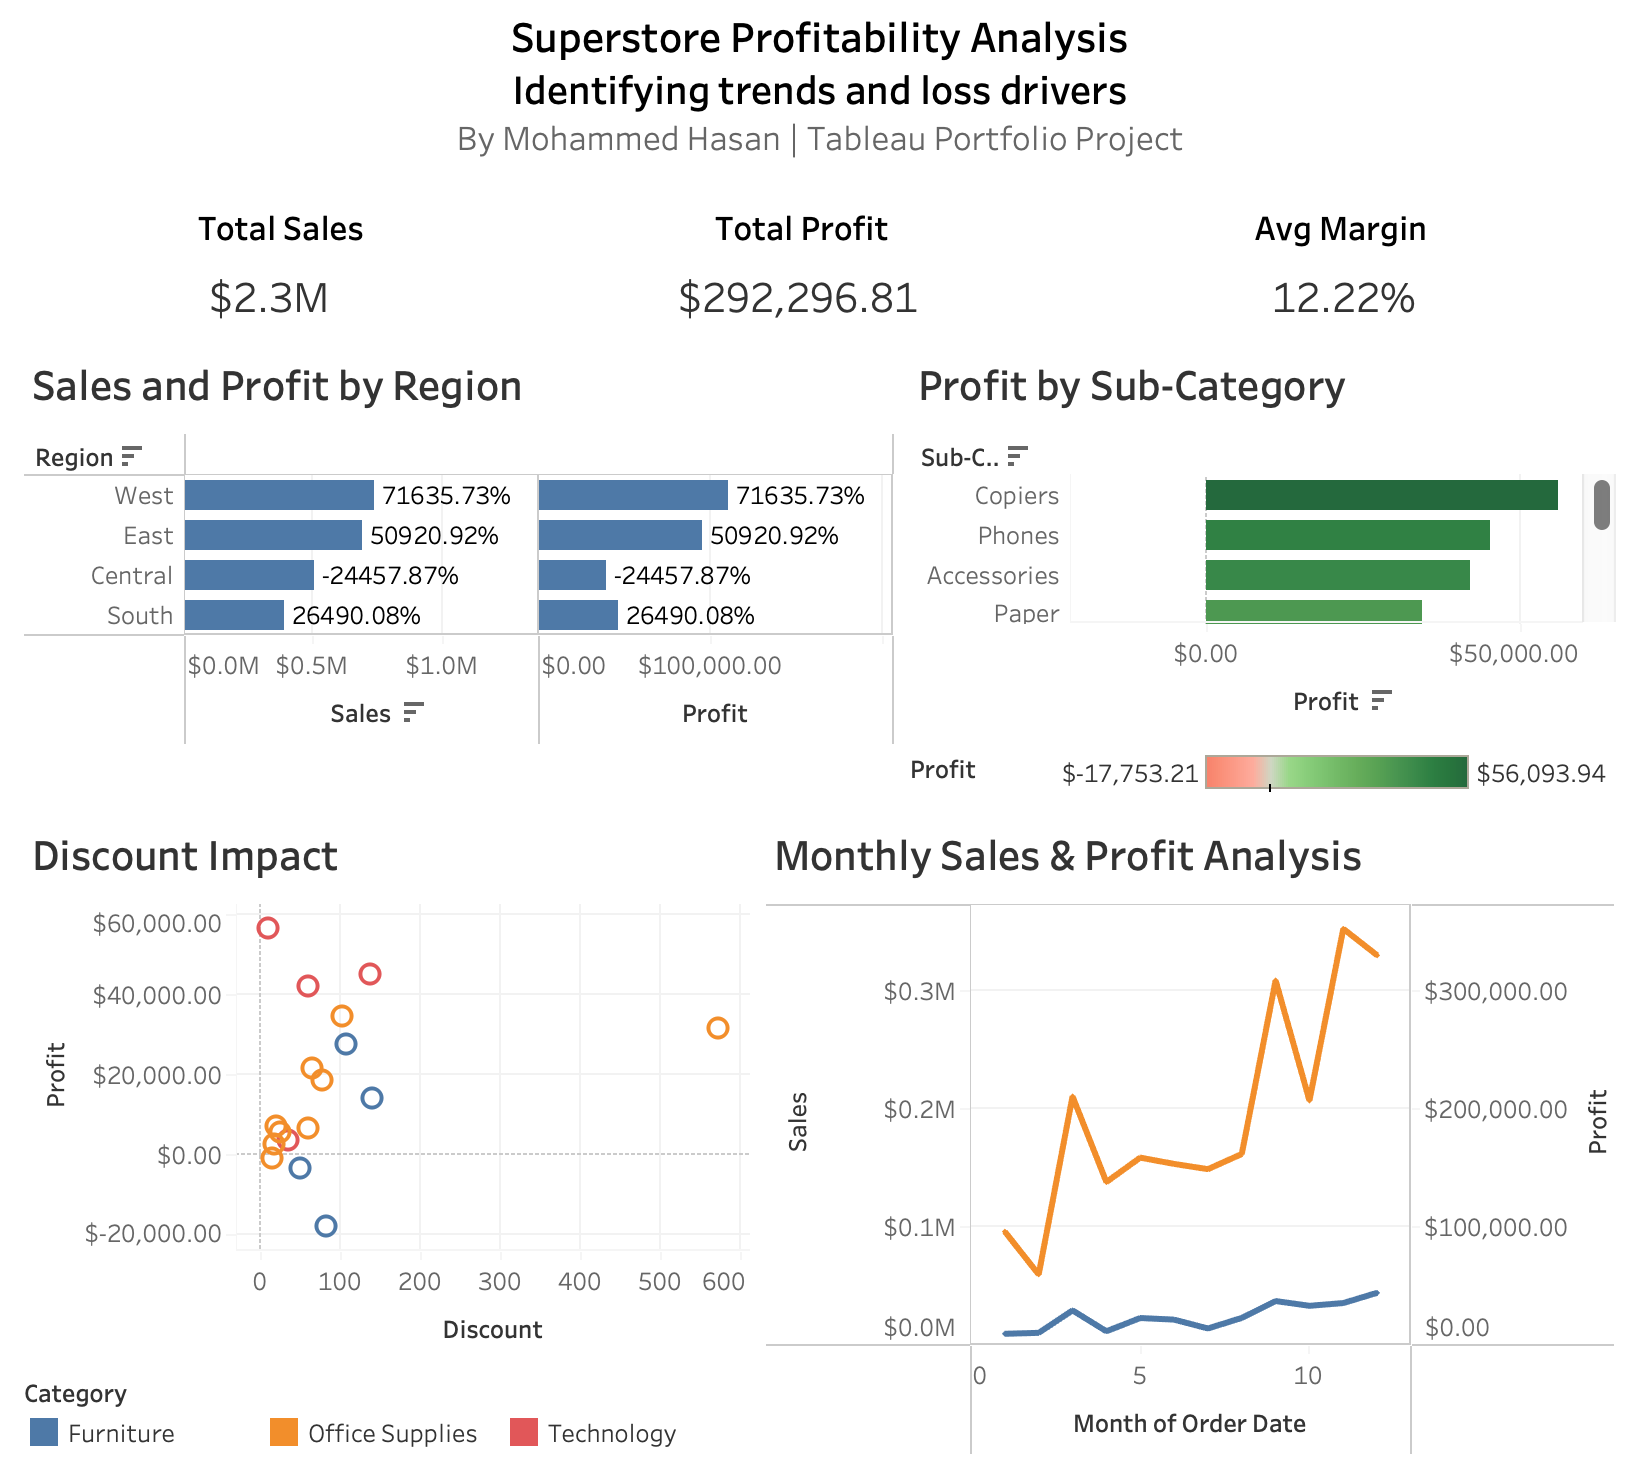

What the dashboard file says about the page in this screenshot:
{"tool":"tableau","page":{"name":"Retail Profit Overview","canvas":[1000,1000],"units":"permille","ordinal":0},"visuals":[{"type":"text","box":[9.8,10.5,980.5,143.4]},{"type":"text","box":[9.8,154,323.2,43.4]},{"type":"text","box":[332.9,154,312.2,43.4]},{"type":"text","box":[645.1,154,345.1,43.4]},{"type":"text","box":[9.8,197.4,101.2,52.6]},{"type":"worksheet","title":"KPI - Total Sales","mark":"Automatic","box":[111,197.4,292.3,47.4]},{"type":"worksheet","title":"KPI- Total Profit","mark":"Automatic","box":[403.3,197.4,362.5,47.4]},{"type":"worksheet","title":"KPI - Profit Margin","mark":"Automatic","box":[765.9,197.4,224.4,52.6]},{"type":"worksheet","title":"Sheet 2","mark":"Automatic","rows":["Region"],"cols":["Sales","Profit"],"box":[9.8,250,540.2,309.2]},{"type":"worksheet","title":"Sheet 3","mark":"Automatic","rows":["Sub-Category"],"cols":["Profit"],"box":[550,250,440.2,263.6]},{"type":"legend","title":"Sheet 3","param":"[federated.0j4lso01lfbqjn12huunb1q07l9n].[sum:Profit:qk]","box":[550,513.5,440.2,45.7]},{"type":"worksheet","title":"Discount vs Profit","mark":"Automatic","rows":["Profit"],"cols":["Discount"],"box":[9.8,559.2,452.4,367.1]},{"type":"worksheet","title":"Sales and Profit over Time","mark":"Automatic","rows":["Sales","Profit"],"cols":["Order Date"],"box":[462.2,559.2,528,430.3]},{"type":"legend","title":"Discount vs Profit","param":"[federated.0j4lso01lfbqjn12huunb1q07l9n].[none:Category:nk]","box":[9.8,926.3,452.4,63.1]}]}

Visuals, with their boxes on the dashboard's canvas, which has no fixed pixel size, in thousandths of its width and height (x1, y1, x2, y2). These are canvas units, not pixel positions in the 1636x1474 screenshot, which may show the page scaled, cropped or inside an application window:
text: [10,10,990,154]
text: [10,154,333,197]
text: [333,154,645,197]
text: [645,154,990,197]
text: [10,197,111,250]
"KPI - Total Sales" worksheet: [111,197,403,245]
"KPI- Total Profit" worksheet: [403,197,766,245]
"KPI - Profit Margin" worksheet: [766,197,990,250]
"Sheet 2" worksheet: [10,250,550,559]
"Sheet 3" worksheet: [550,250,990,514]
"Sheet 3" legend: [550,514,990,559]
"Discount vs Profit" worksheet: [10,559,462,926]
"Sales and Profit over Time" worksheet: [462,559,990,990]
"Discount vs Profit" legend: [10,926,462,989]
